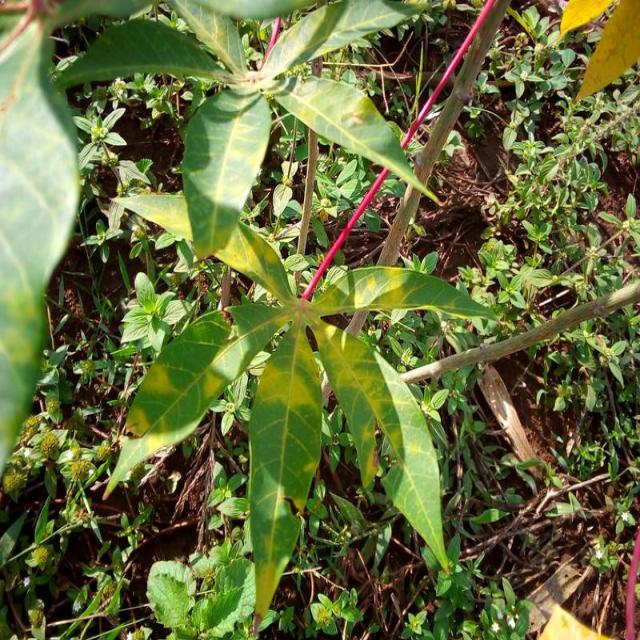cassava leaf: (319, 323, 451, 574), (247, 317, 324, 626), (273, 73, 440, 204), (180, 86, 274, 260), (310, 264, 500, 324)
